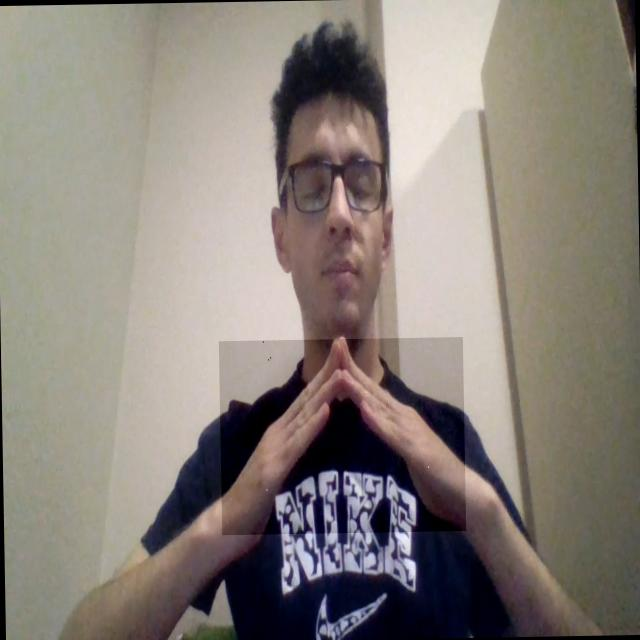house: (218, 336, 466, 534)
